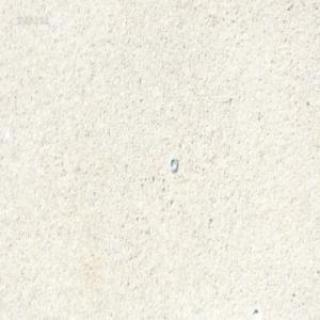Washertrack_idkeyframe: (168, 156, 176, 172)
